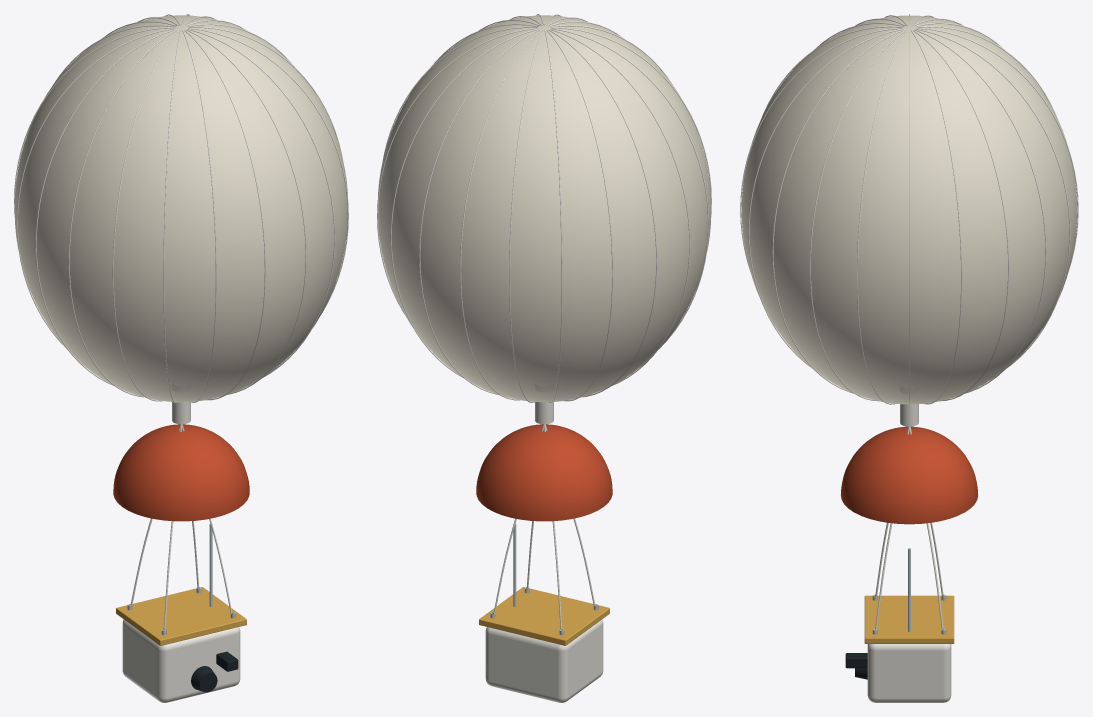
Rendered from balloon.glb.
3 views of the same model, side by side, from view 1: azimuth 30°, elevation 25°; view 2: azimuth 150°, elevation 25°; view 3: azimuth 270°, elevation 25° (orthographic).
Parts seen in each view (by area): view 1: Main assembly, Instrument payload, Recovery parachute; view 2: Main assembly, Instrument payload, Recovery parachute; view 3: Main assembly, Recovery parachute, Instrument payload.
Boxes of the visible parts, box(x1,y1,x2,y2) form: Main assembly: box(14, 14, 348, 629); Instrument payload: box(116, 524, 246, 702); Recovery parachute: box(113, 424, 249, 521); Main assembly: box(377, 14, 711, 629); Instrument payload: box(479, 524, 609, 702); Recovery parachute: box(476, 424, 612, 521); Main assembly: box(740, 14, 1078, 629); Recovery parachute: box(841, 426, 977, 524); Instrument payload: box(845, 548, 954, 702).
Size of the model in its own units: 1.77 by 3.8 by 1.77.
